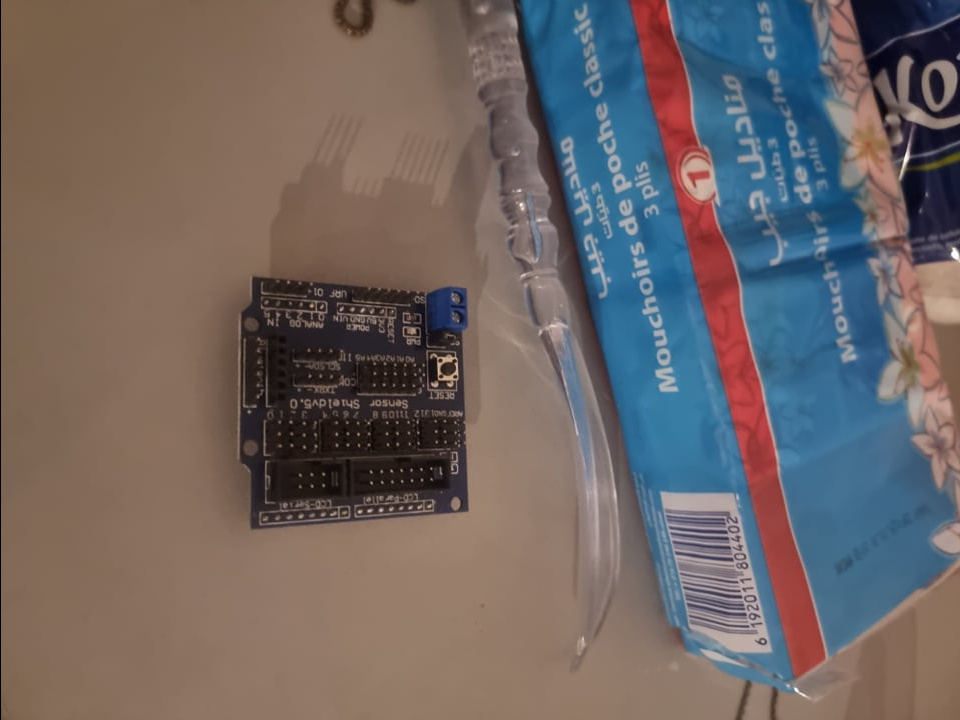5V EXPANSION: (237, 274, 470, 530)
